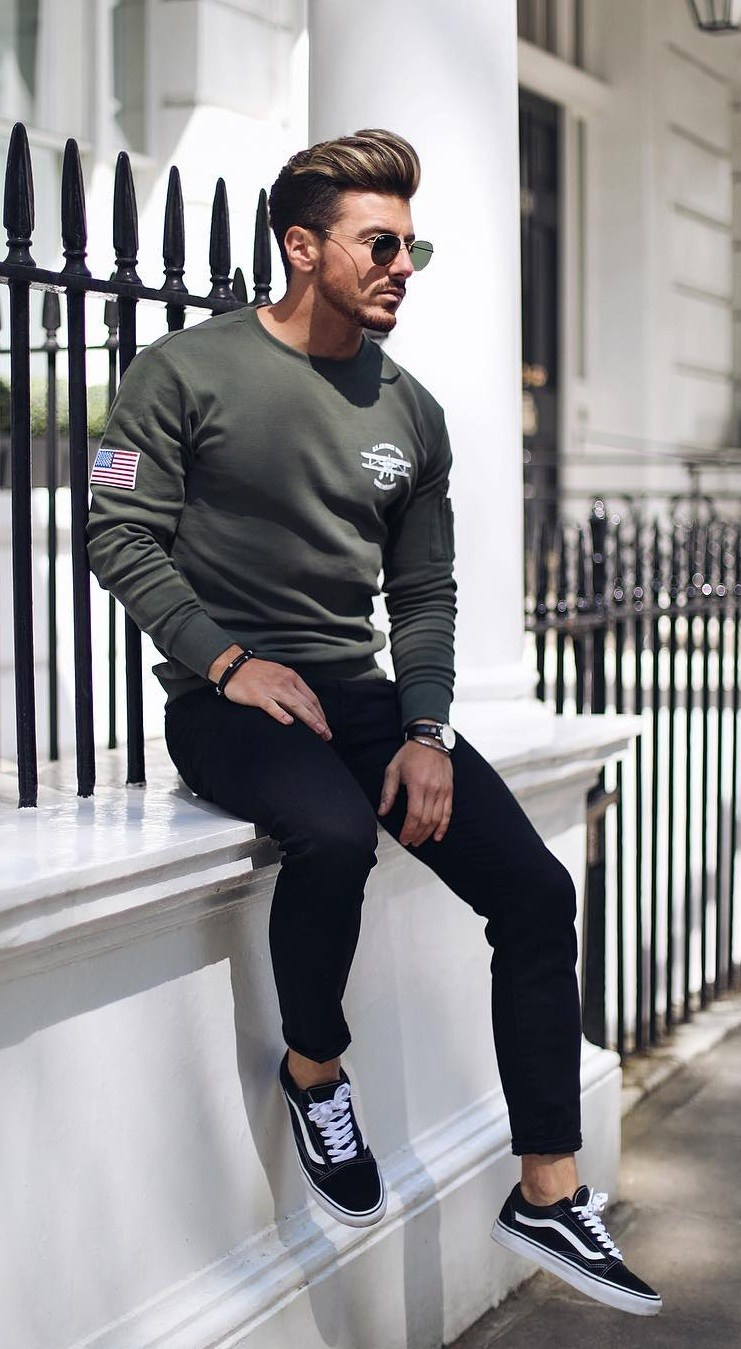NOTSAFE: (171, 133, 442, 686)
